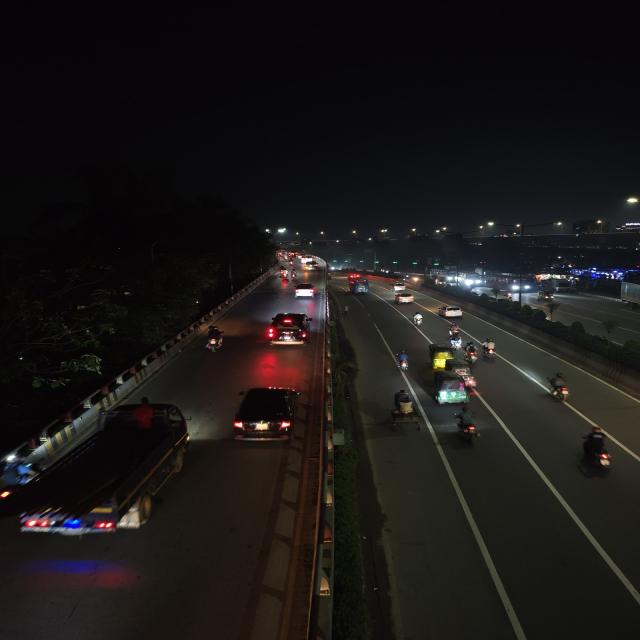bus: (494, 276, 530, 293), (348, 278, 370, 294), (461, 271, 483, 286)
car: (233, 387, 302, 448), (265, 311, 311, 347), (437, 305, 464, 321), (295, 284, 318, 302), (390, 291, 412, 305), (304, 262, 320, 272), (390, 282, 404, 291)
cng: (429, 373, 470, 404), (448, 364, 479, 393), (429, 342, 455, 369), (535, 290, 554, 302)
motorcycle: (575, 424, 618, 469), (451, 406, 483, 442), (543, 371, 579, 402), (203, 325, 227, 357), (480, 336, 499, 362), (392, 348, 411, 373), (463, 341, 477, 364), (408, 310, 424, 326), (450, 335, 463, 350), (448, 322, 458, 336), (287, 259, 297, 267), (292, 268, 298, 280), (282, 270, 289, 280)
pedestrian: (342, 304, 352, 316)
pickup_van: (30, 402, 193, 548)
rickshaw: (387, 392, 422, 434)
